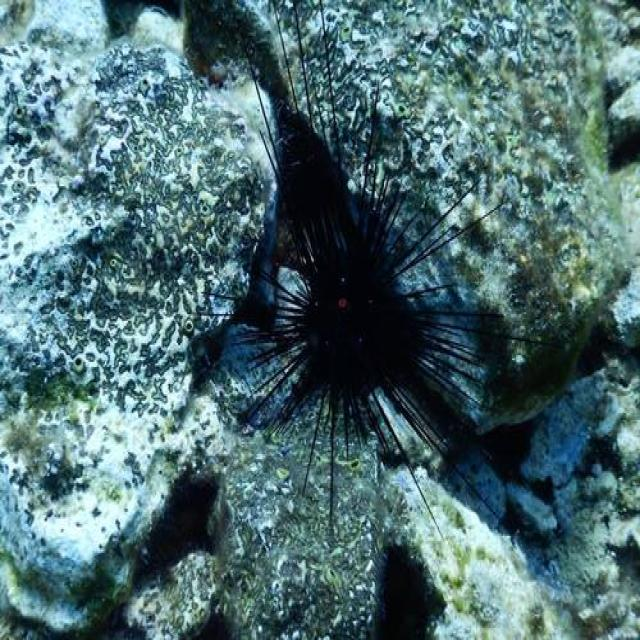Urchin: (189, 5, 548, 551)
